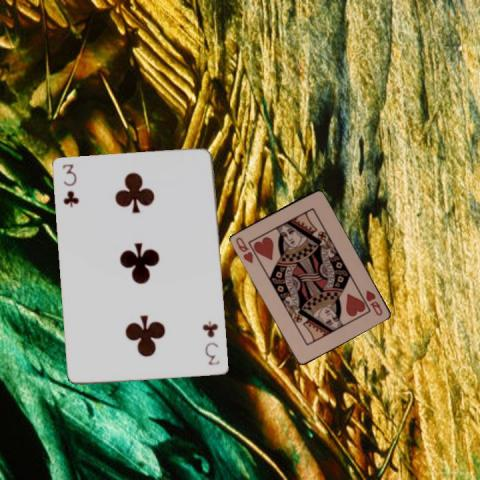3c: (200, 318, 222, 367), (60, 161, 79, 209)
Qh: (232, 234, 254, 265), (363, 287, 384, 317)
